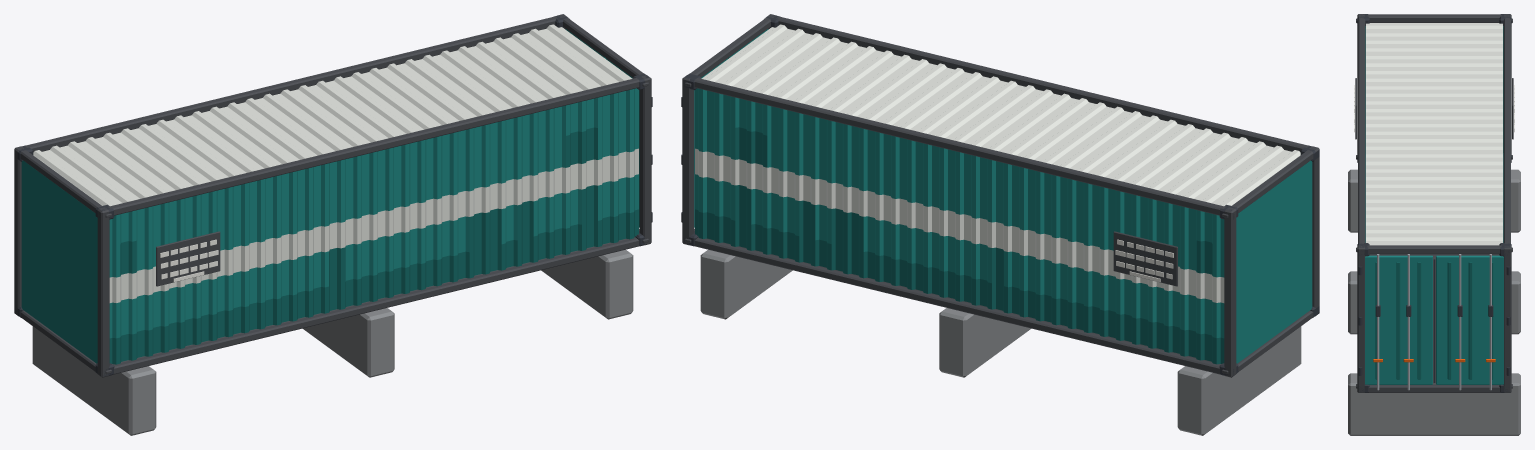
Rendered from outpost_container_b.glb.
3 renders of one model, left to right at view 1: azimuth 30°, elevation 25°; view 2: azimuth 150°, elevation 25°; view 3: azimuth 270°, elevation 25°, orthographic. The views are drawn at different scales.
Parts seen in each view (by area): view 1: Body; view 2: Body; view 3: Body.
Boxes of the visible parts, box(x1,y1,x2,y2) form: Body: box(14, 14, 652, 435); Body: box(681, 14, 1319, 435); Body: box(1348, 14, 1520, 435).
Bounding box in the file's own units: 9.08 × 3.55 × 2.8.
